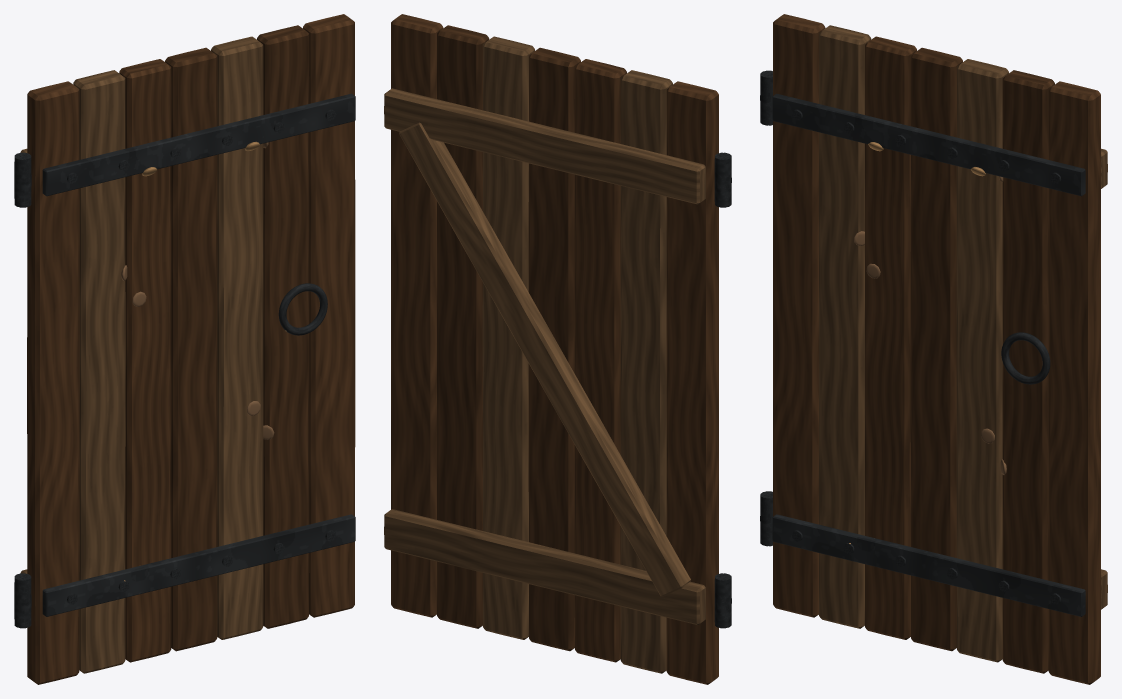
3 views of the same model, side by side, from view 1: azimuth 30°, elevation 25°; view 2: azimuth 150°, elevation 25°; view 3: azimuth 330°, elevation 25° (orthographic).
Parts seen in each view (by area): view 1: quarter-sawn-timber, exposed-end-grain, blackened-forged-iron; view 2: quarter-sawn-timber, exposed-end-grain, blackened-forged-iron; view 3: quarter-sawn-timber, exposed-end-grain, blackened-forged-iron.
Part boxes in pixels (bbox=[...]): quarter-sawn-timber: bbox=[27, 14, 355, 684]; exposed-end-grain: bbox=[20, 36, 263, 673]; blackened-forged-iron: bbox=[14, 93, 355, 628]; quarter-sawn-timber: bbox=[391, 14, 718, 684]; exposed-end-grain: bbox=[384, 36, 705, 673]; blackened-forged-iron: bbox=[714, 152, 731, 628]; quarter-sawn-timber: bbox=[773, 14, 1100, 684]; exposed-end-grain: bbox=[819, 25, 1107, 662]; blackened-forged-iron: bbox=[760, 70, 1085, 616].
Size of the model in its own units: 1.17 by 1.96 by 0.172.
6 materials, 4 textured.
